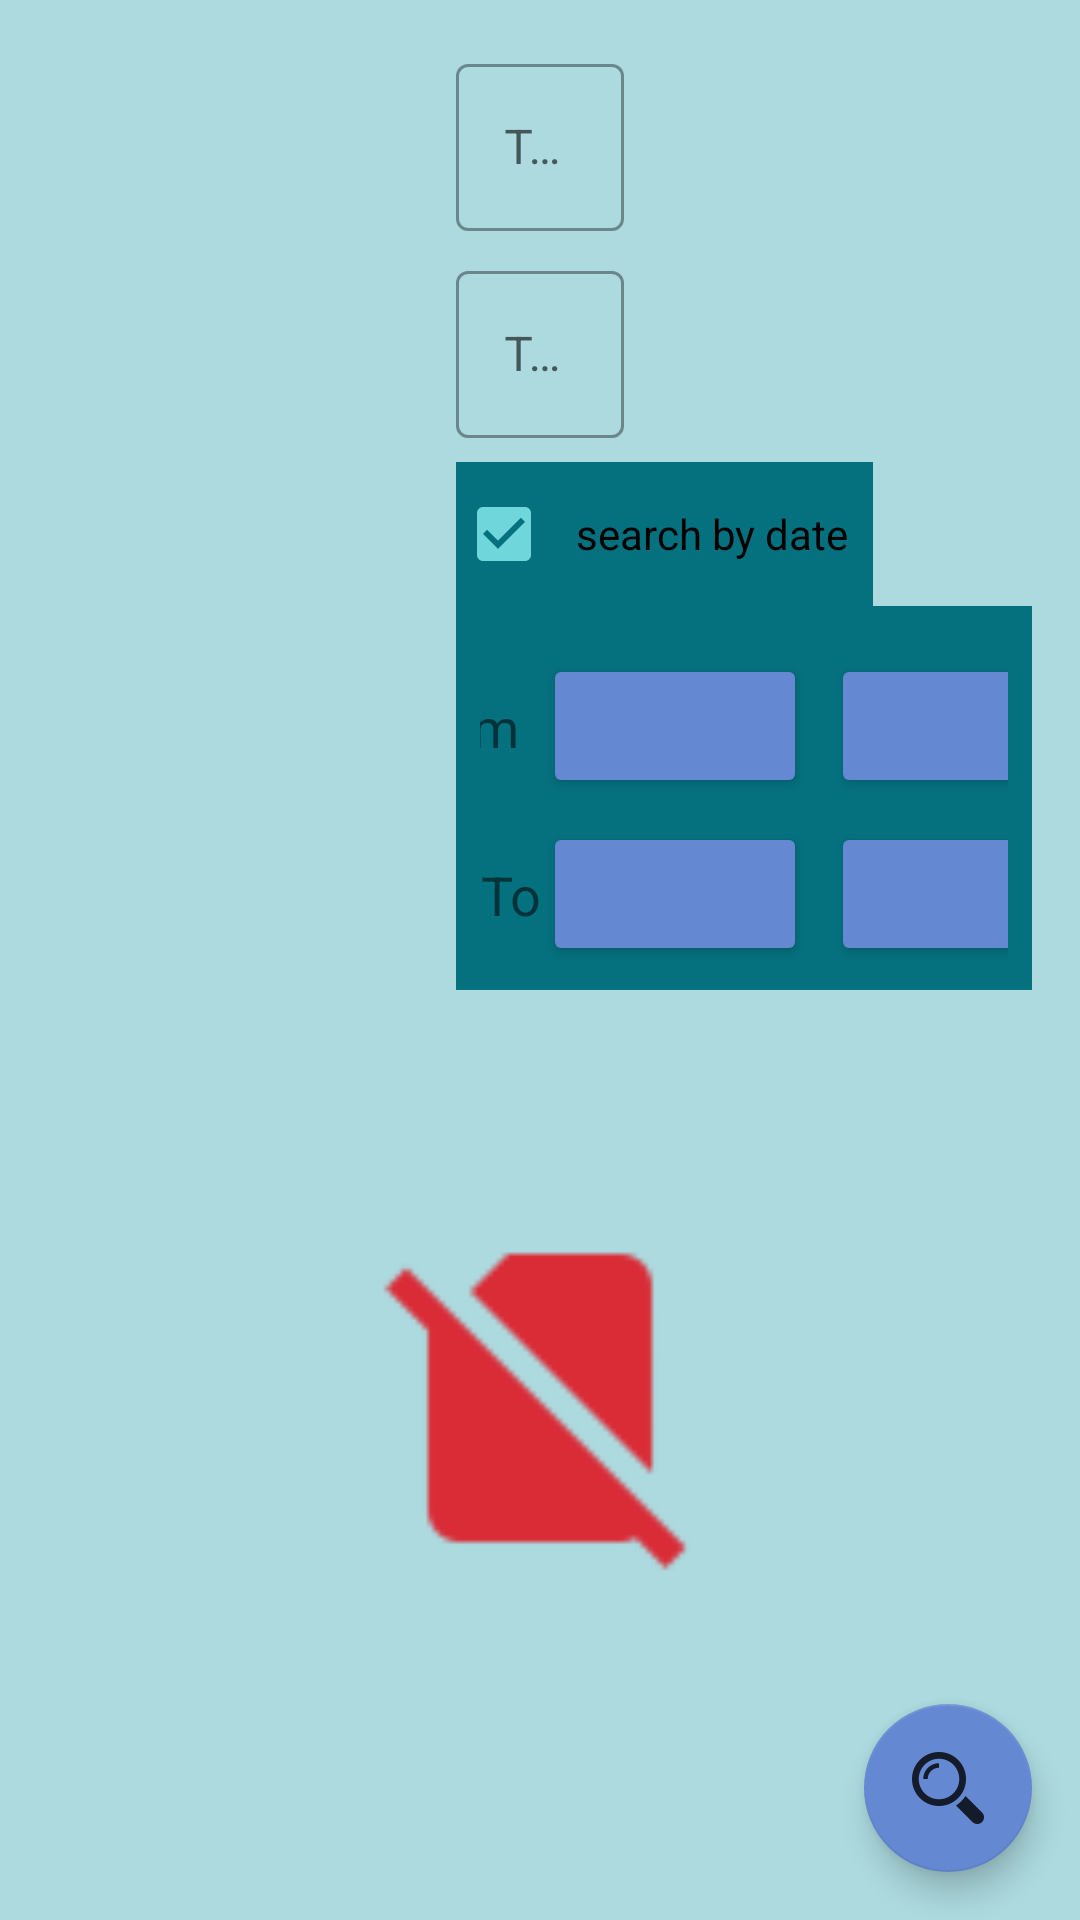

Named icons in this screenshot (1080px×1920px) and their centers, (x=x, y=y):
search: (x=948, y=1788)
